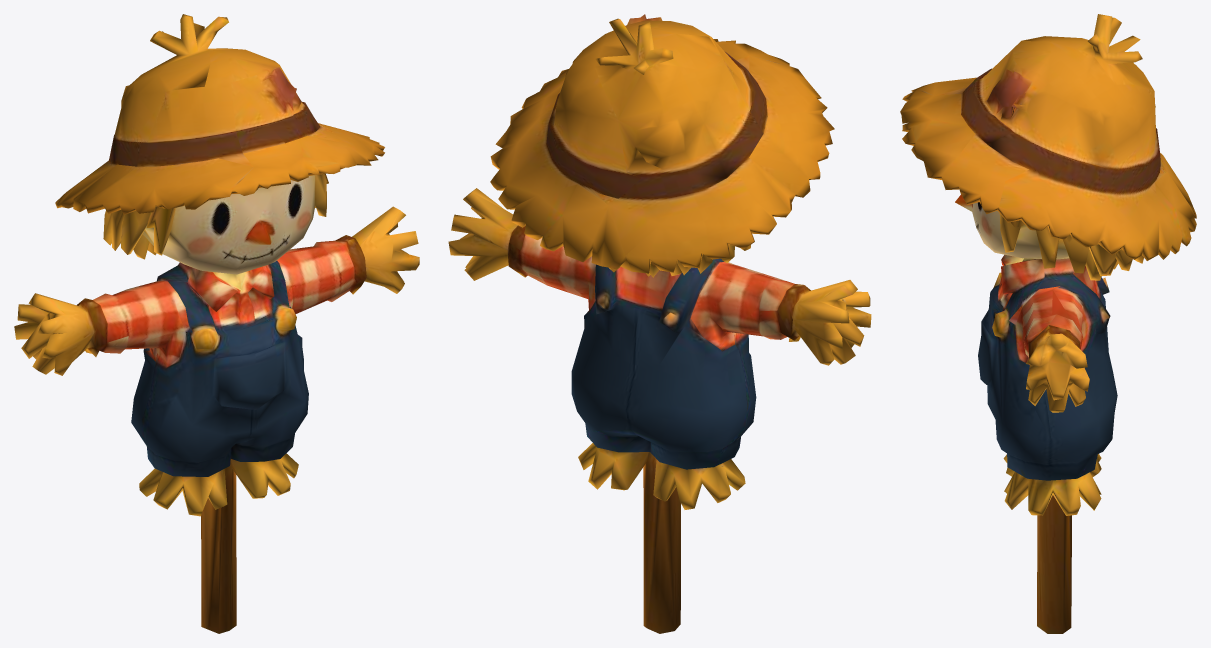
The model's file is scarecrow.glb.
The picture shows the model from 3 angles, left to right: view 1: azimuth 30°, elevation 25°; view 2: azimuth 150°, elevation 25°; view 3: azimuth 270°, elevation 25°; orthographic projection. The views are drawn at different scales.
Parts seen in each view (by area): view 1: model; view 2: model; view 3: model.
Part boxes in pixels (<box>): model: <box>14,14,419,633</box>; model: <box>448,14,871,633</box>; model: <box>900,14,1196,633</box>.
Bounding box in the file's own units: 1.28 × 1.89 × 0.8337.
Materials: 1 (1 with a texture image).
